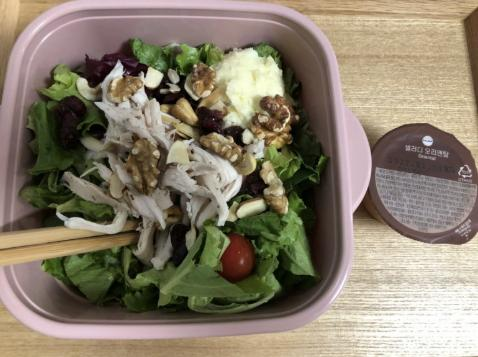Lunch Box: (0, 0, 370, 338), (365, 124, 477, 243)
